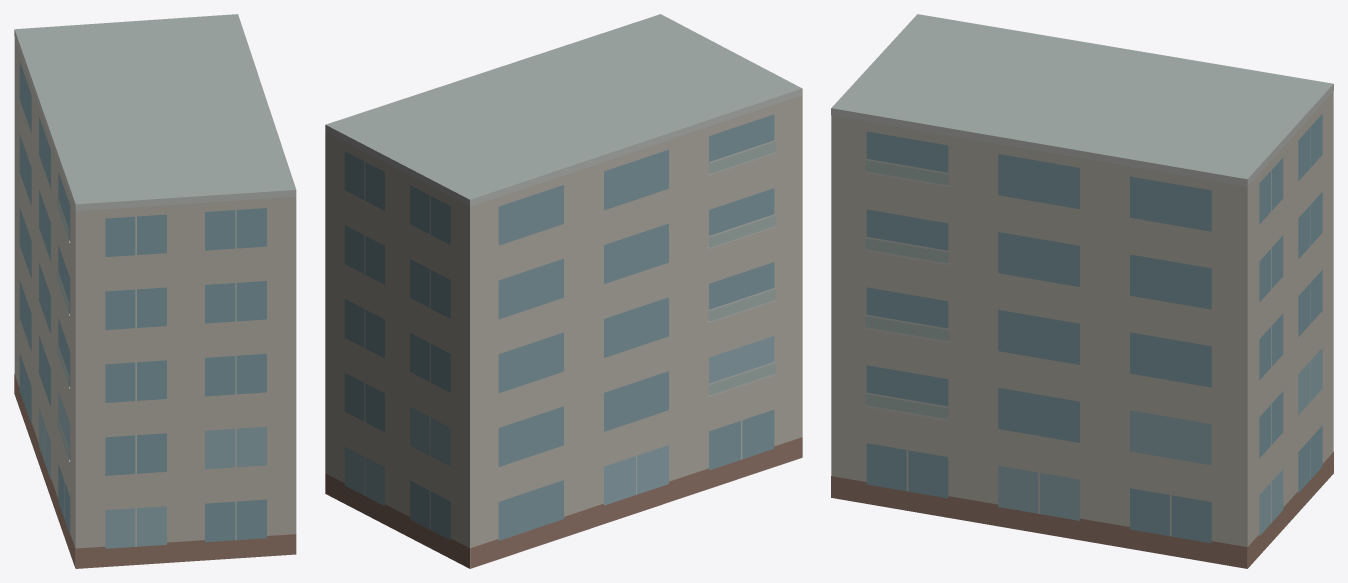
The model's file is survey-upis-32852636.glb.
3 renders of one model, left to right at view 1: azimuth 30°, elevation 25°; view 2: azimuth 150°, elevation 25°; view 3: azimuth 270°, elevation 25°, orthographic. The views are drawn at different scales.
Visible parts, largest first — view 1: survey-upis-32852636.tmp; view 2: survey-upis-32852636.tmp; view 3: survey-upis-32852636.tmp.
Part boxes in pixels (x1=…): survey-upis-32852636.tmp: x1=14, y1=14, x2=296, y2=568; survey-upis-32852636.tmp: x1=325, y1=14, x2=802, y2=568; survey-upis-32852636.tmp: x1=831, y1=14, x2=1333, y2=568.
Bounding box in the file's own units: 11.93 × 13.1 × 15.33.
